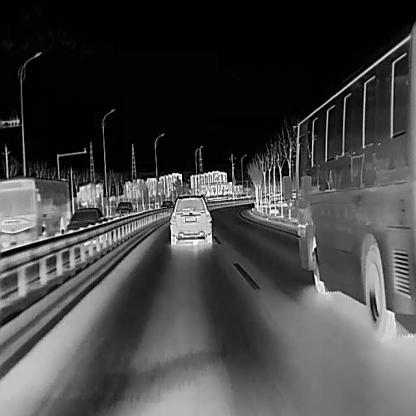bus: (280, 26, 416, 337), (0, 176, 68, 252)
car: (168, 192, 211, 246), (66, 206, 108, 245), (115, 200, 133, 221), (159, 200, 175, 214)
